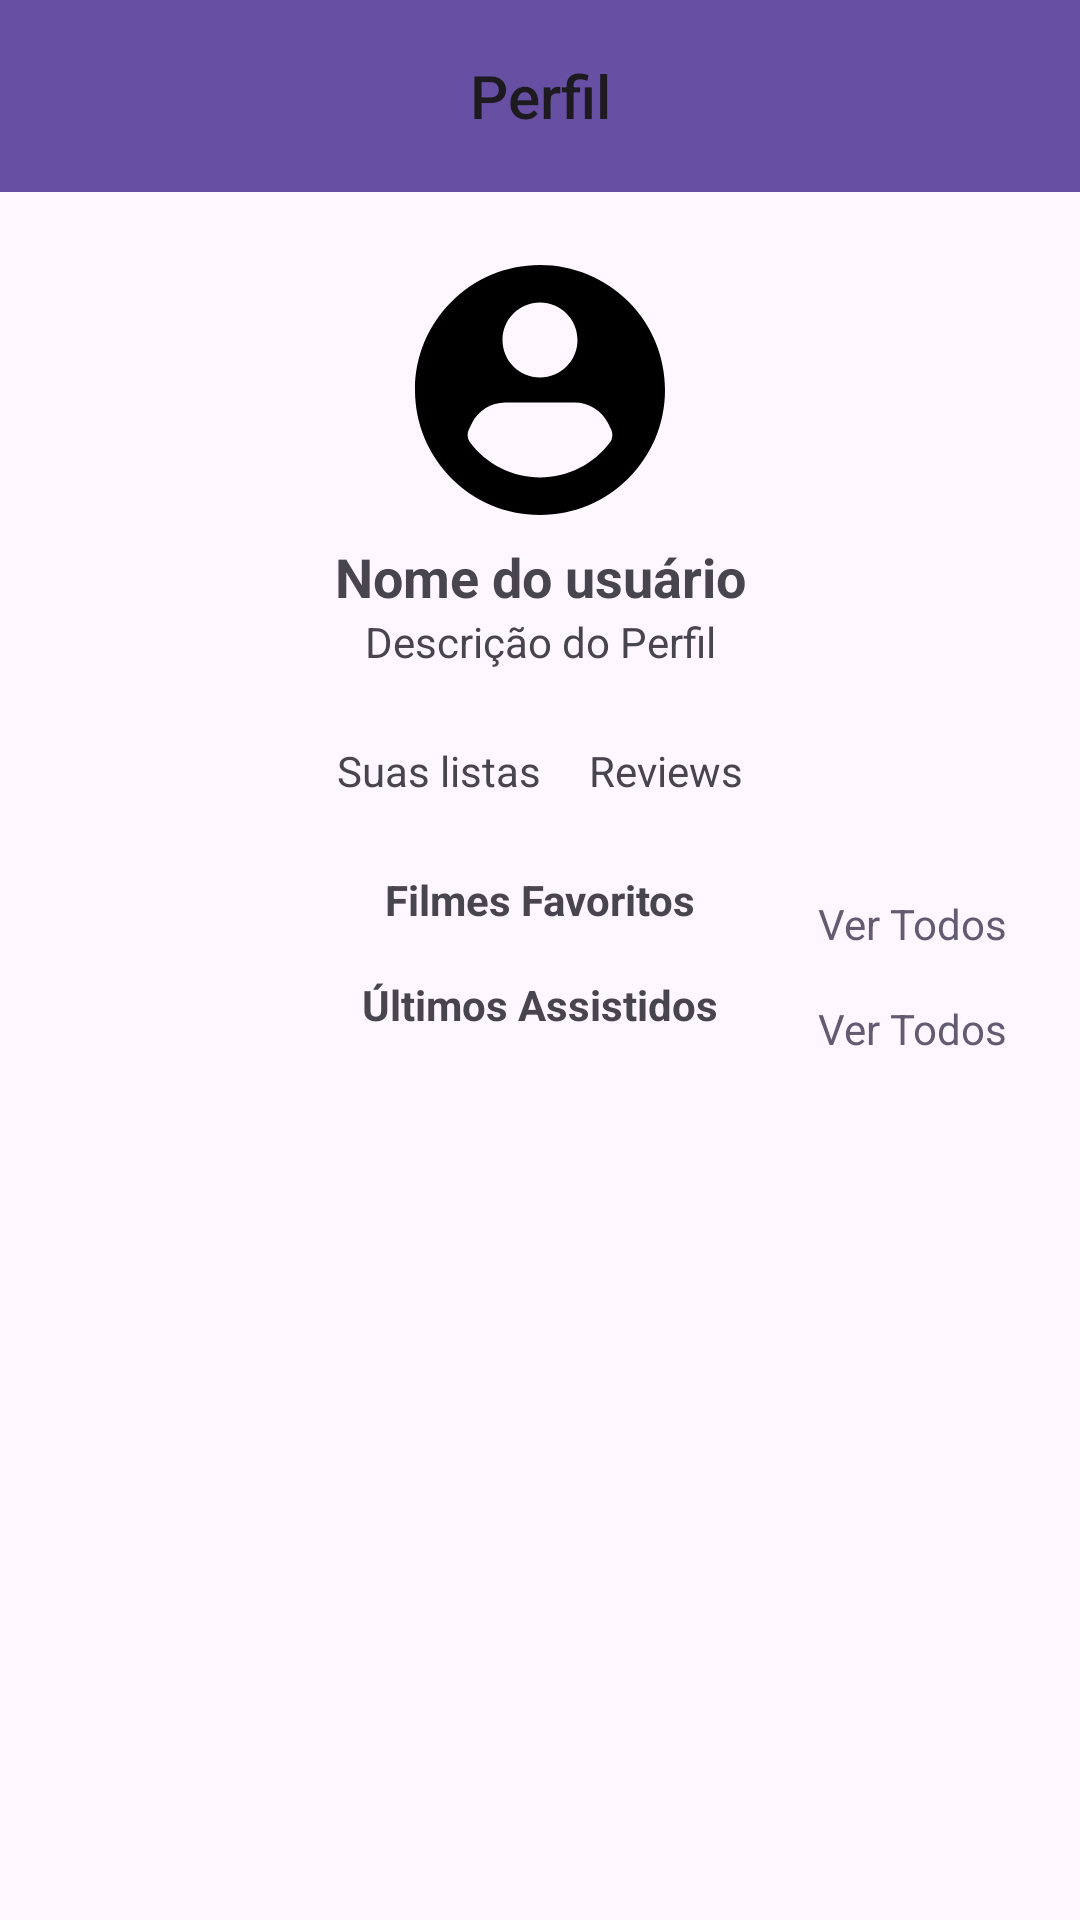

Icons on this 1080*1920 Android screen, each with its box as rect(x1, y1, x2, y2):
Profile Image: rect(415, 265, 665, 515)
